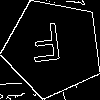F: (28, 23, 65, 71)
